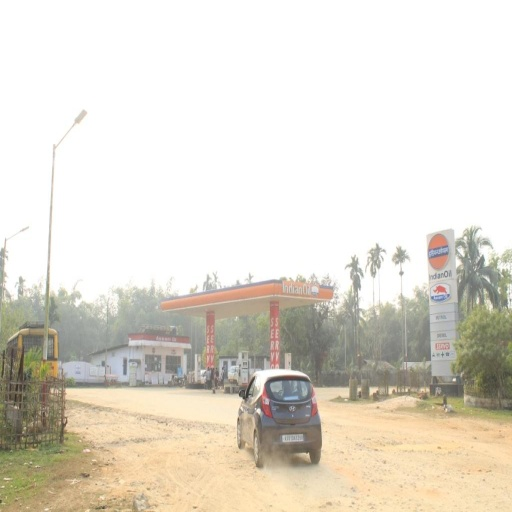roof: (159, 280, 336, 311)
